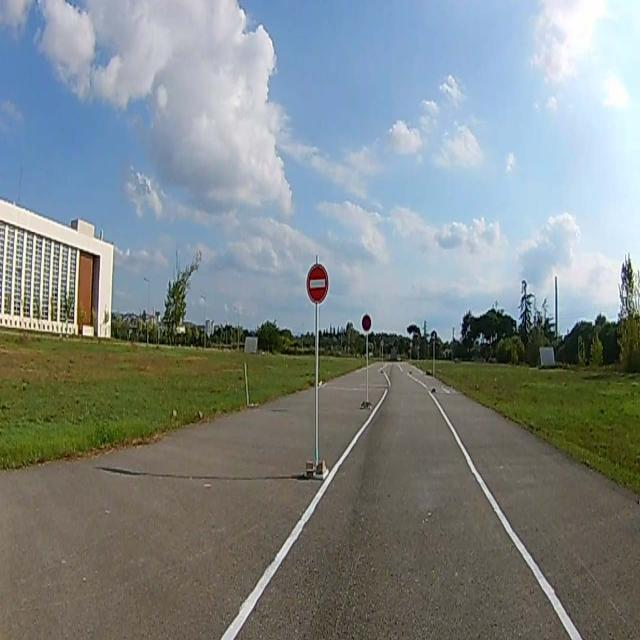girisyok: (306, 264, 328, 306)
